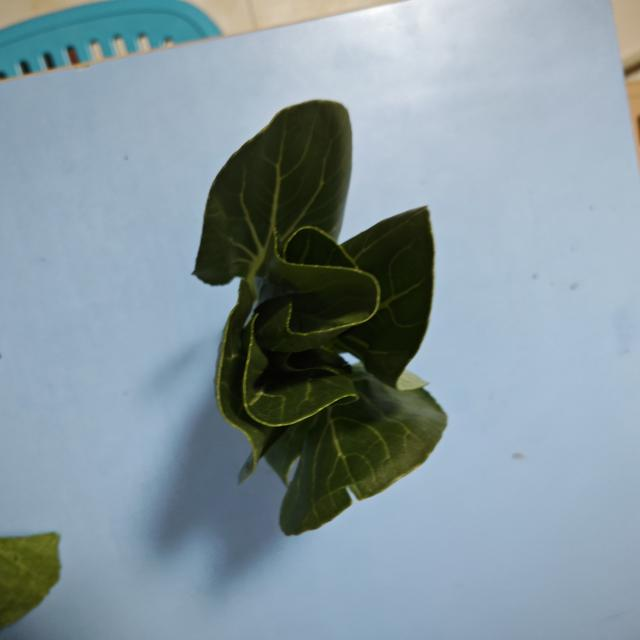-Kitchen waste - vegetable roots and leaves-: (188, 102, 453, 524)
